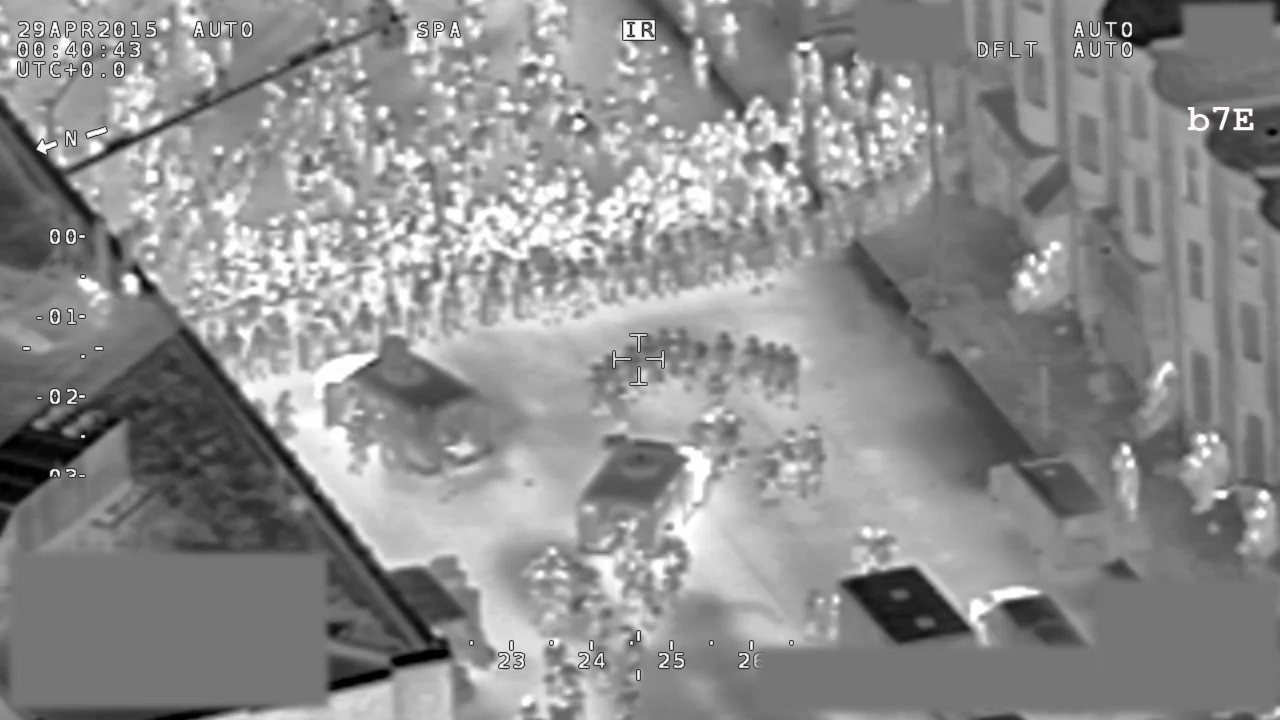vehicle: (310, 327, 508, 498), (572, 422, 720, 563), (975, 440, 1125, 575)
